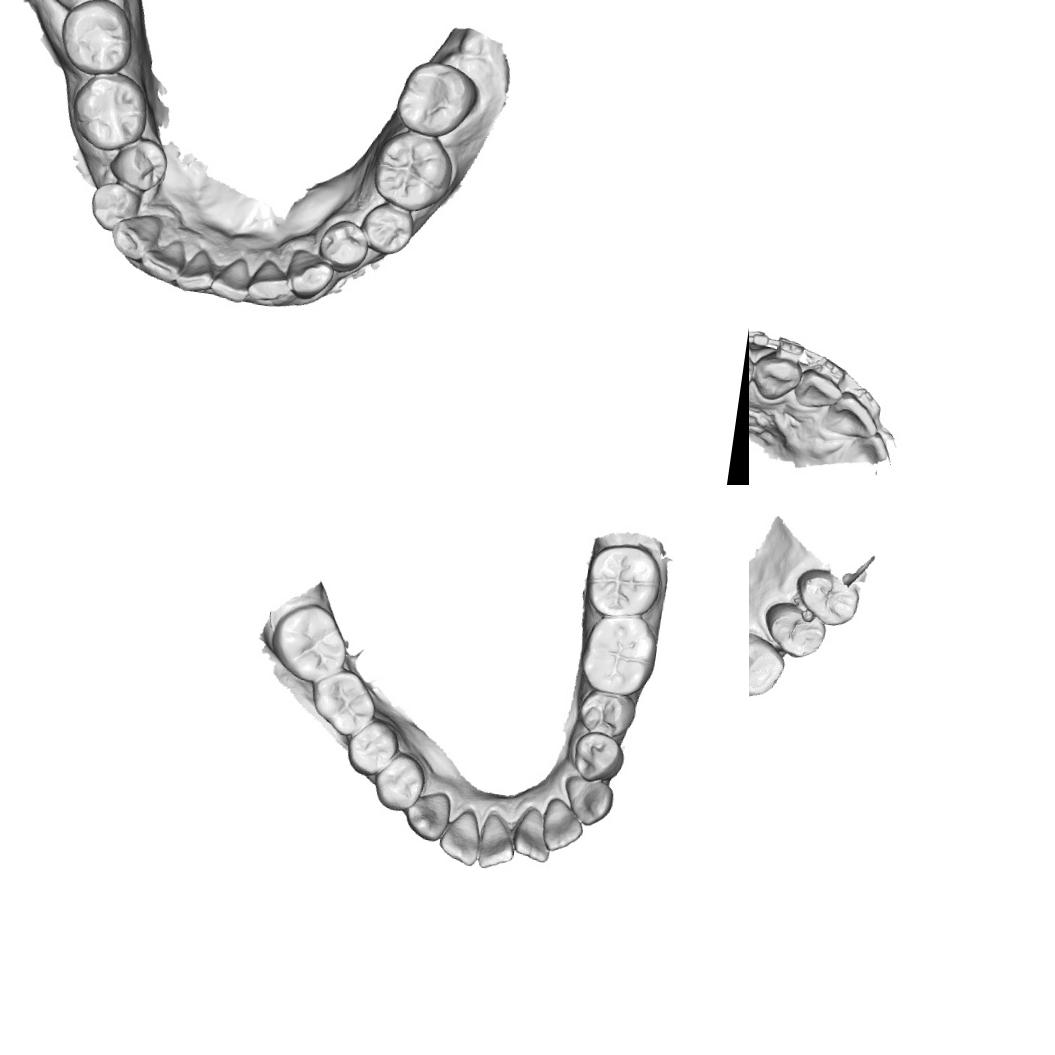canine: (558, 771, 618, 830), (106, 208, 165, 265), (401, 784, 455, 845), (749, 350, 806, 406), (749, 628, 791, 702), (283, 245, 335, 303)
incisor: (819, 386, 885, 442), (436, 802, 487, 869), (474, 809, 522, 874), (509, 803, 558, 865), (538, 795, 586, 857), (792, 364, 847, 416), (136, 234, 190, 284), (245, 256, 294, 307), (208, 253, 254, 305), (838, 426, 893, 468), (173, 245, 218, 296)
molar: (265, 596, 355, 688), (63, 66, 152, 158), (392, 56, 482, 144), (368, 128, 458, 216), (575, 610, 662, 700), (580, 538, 668, 623), (304, 663, 384, 742), (56, 0, 136, 77), (33, 0, 119, 19)
premolar: (791, 564, 865, 630), (759, 598, 830, 662), (369, 748, 432, 816), (341, 713, 402, 780), (107, 134, 171, 194), (567, 728, 629, 787), (312, 216, 373, 275), (574, 687, 640, 741), (356, 201, 416, 257), (86, 180, 143, 235), (749, 344, 762, 410)
